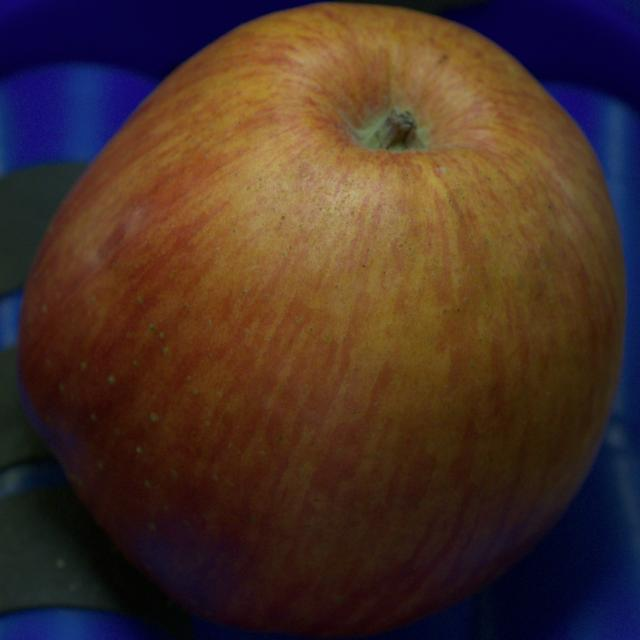apple: (18, 4, 626, 635)
